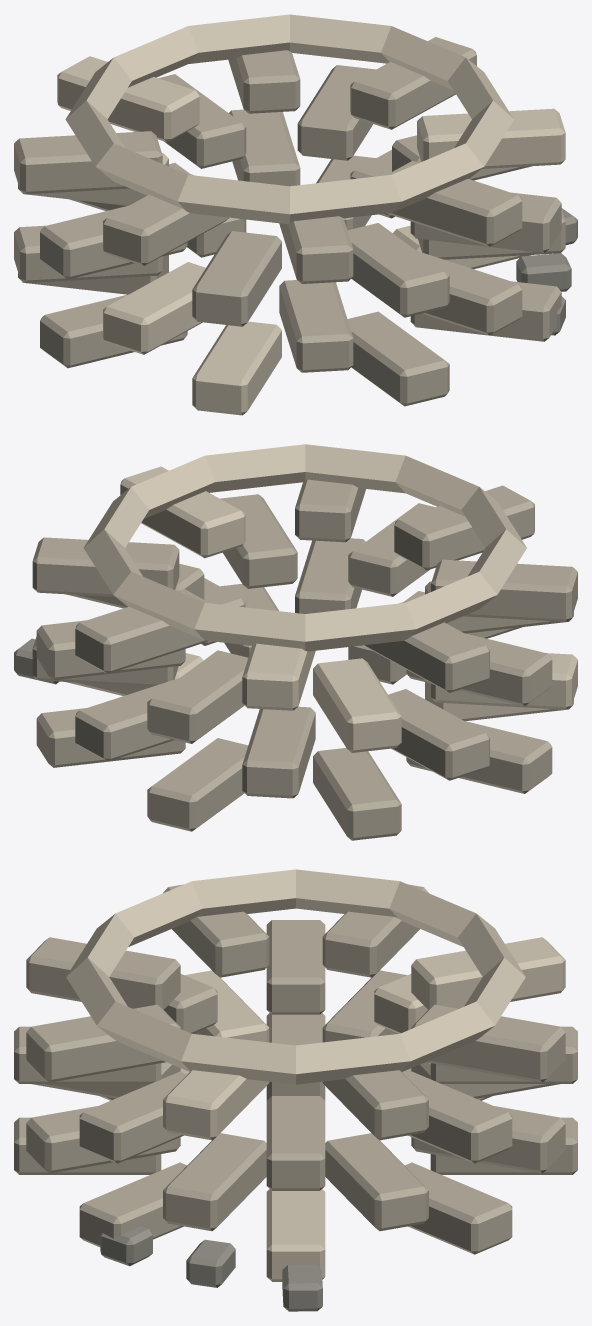
Rendered from runtime.glb.
3 renders of one model, top to bottom at view 1: azimuth 30°, elevation 25°; view 2: azimuth 150°, elevation 25°; view 3: azimuth 270°, elevation 25°, orthographic. The views are drawn at different scales.
Visible parts, largest first — view 1: falkenwacht-stone-well-v04_nocol; view 2: falkenwacht-stone-well-v04_nocol; view 3: falkenwacht-stone-well-v04_nocol.
Boxes of the visible parts, x1,y1,x2,y2 form: falkenwacht-stone-well-v04_nocol: [14, 14, 577, 415]; falkenwacht-stone-well-v04_nocol: [14, 444, 577, 840]; falkenwacht-stone-well-v04_nocol: [14, 869, 577, 1311].
Bounding box in the file's own units: 4.01 × 1.53 × 3.65.
